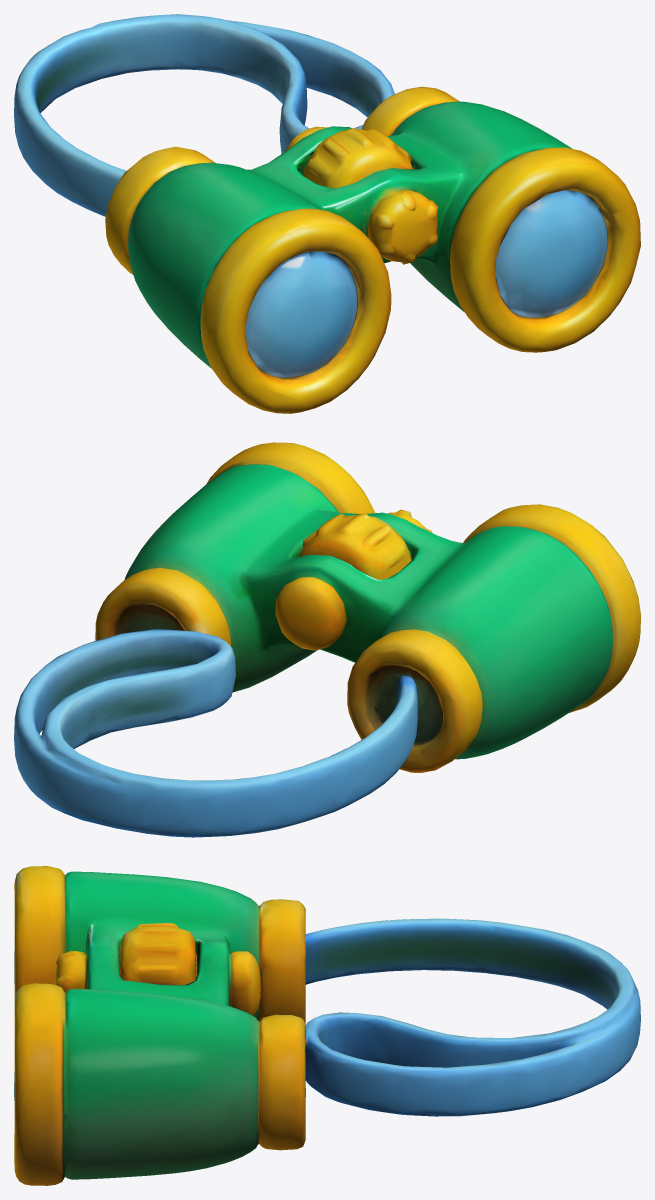
The model's file is cs-binoculars.glb.
3 renders of one model, top to bottom at view 1: azimuth 30°, elevation 25°; view 2: azimuth 150°, elevation 25°; view 3: azimuth 270°, elevation 25°, orthographic. The views are drawn at different scales.
Visible parts, largest first — view 1: tripo_node_51928db3-2883-4900-9e77-488ba8656b6a; view 2: tripo_node_51928db3-2883-4900-9e77-488ba8656b6a; view 3: tripo_node_51928db3-2883-4900-9e77-488ba8656b6a.
Part boxes in pixels (left/top/right/bottom): tripo_node_51928db3-2883-4900-9e77-488ba8656b6a: left=14, top=14, right=640, bottom=413; tripo_node_51928db3-2883-4900-9e77-488ba8656b6a: left=14, top=442, right=640, bottom=837; tripo_node_51928db3-2883-4900-9e77-488ba8656b6a: left=14, top=866, right=640, bottom=1185.
Bounding box in the file's own units: 0.756 × 0.3355 × 1.
Materials: 1 (1 with a texture image).
